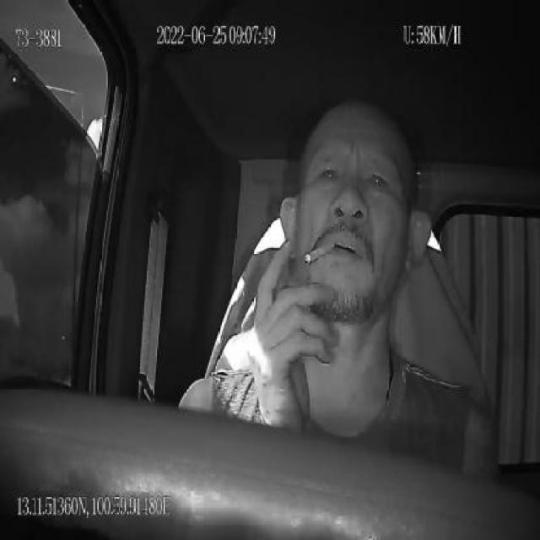smoking: (304, 239, 335, 266)
